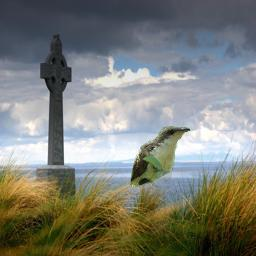Cuckoo: (129, 126, 190, 188)
